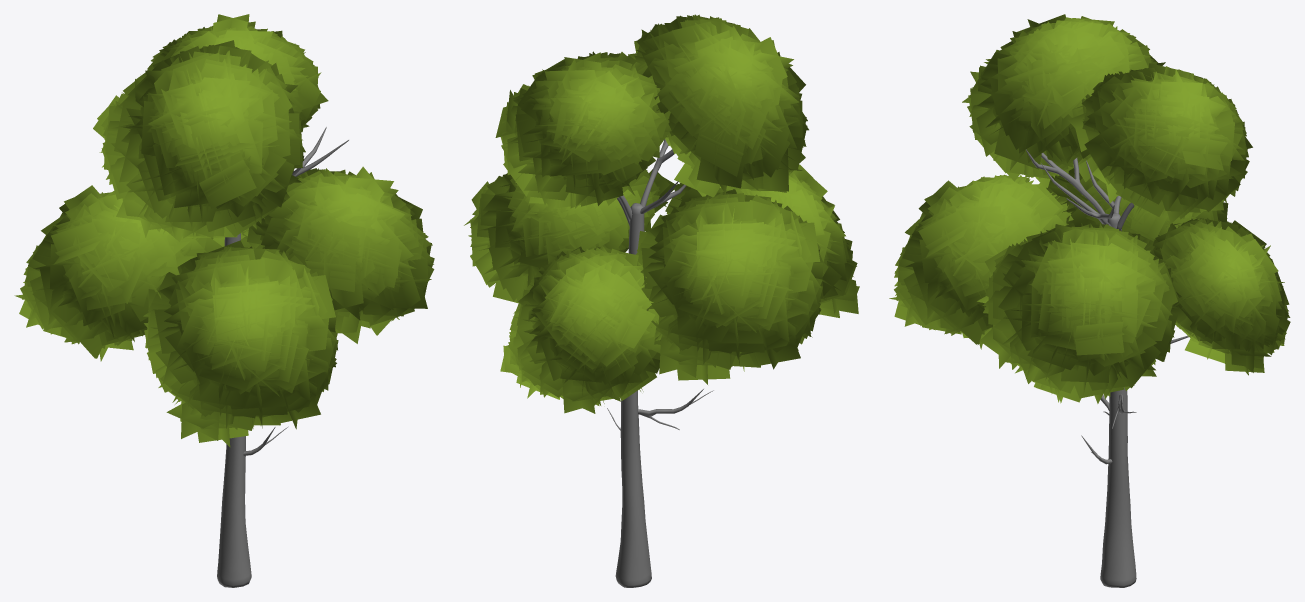
File: SM_tree_maple_02.fbx
3 renders of one model, left to right at view 1: azimuth 30°, elevation 25°; view 2: azimuth 150°, elevation 25°; view 3: azimuth 270°, elevation 25°, orthographic. The views are drawn at different scales.
Visible parts, largest first — view 1: Group63246; view 2: Group63246; view 3: Group63246.
Part boxes in pixels (<box>): Group63246: <box>14,14,434,587</box>; Group63246: <box>464,14,859,587</box>; Group63246: <box>889,14,1290,587</box>.
Bounding box in the file's own units: 205 × 300 × 203.
